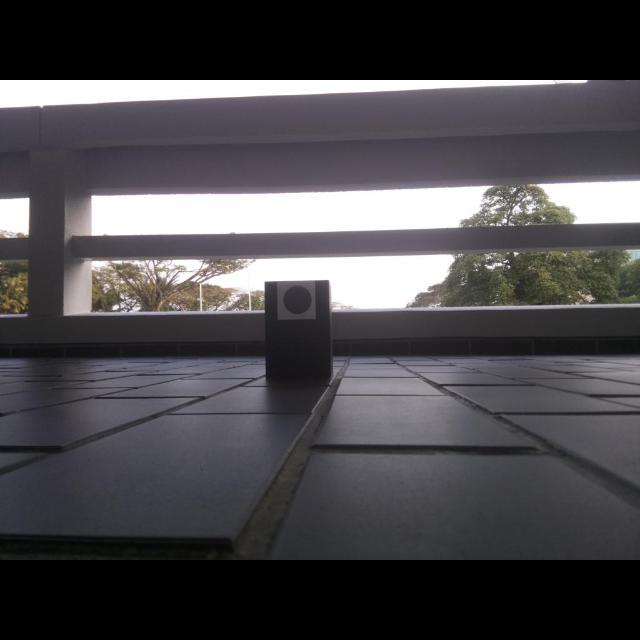CIRCLE: (283, 284, 313, 315)
